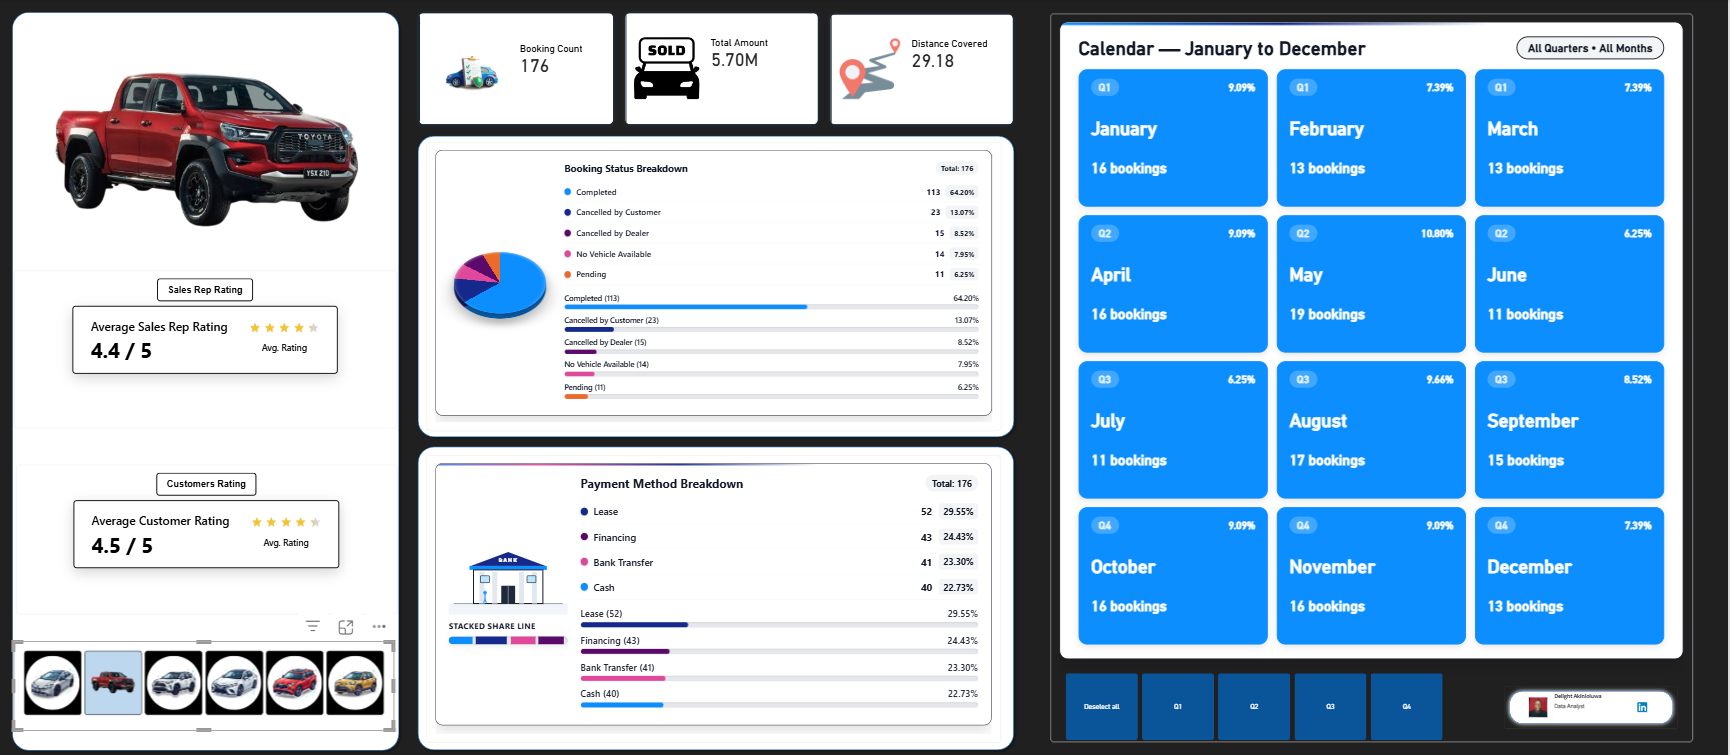

This screenshot's page, from the dashboard's own definition file:
{"tool":"powerbi","page":{"name":"Dashboard","canvas":[3200,1400],"ordinal":0},"visuals":[{"type":"shape","box":[16.1,16.1,733.2,1383.5],"z":0},{"type":"cardVisual","fields":{"Data":["toyota_powerbi_dataset.No of Bookings"]},"box":[766,16.5,381.5,227.9],"z":0,"group":"g2"},{"type":"shape","box":[766,244.4,1121,574.9],"z":0,"group":"g3"},{"type":"shape","box":[2786.8,1271.2,318.7,76.9],"z":0,"group":"g1"},{"type":"group","id":"g1","title":"Group 11","box":[2786.8,1271.2,315.7,76.9],"z":0,"group":"g5"},{"type":"cardVisual","fields":{"Data":["toyota_powerbi_dataset.Total Amount"]},"box":[1147.5,16.5,378.8,227.9],"z":1000,"group":"g2"},{"type":"image","box":[30,27.7,707.9,516.5],"z":1000},{"type":"htmlContent443BE3AD55E043BF878BED274D3A6855","fields":{"content":["toyota_powerbi_dataset.HTML Booking Status 3D Pie"]},"box":[790.7,264.4,1064.1,535],"z":1000,"group":"g3"},{"type":"image","box":[2820.3,1291.2,55.9,36.9],"z":1000,"group":"g1"},{"type":"cardVisual","fields":{"Data":["toyota_powerbi_dataset.Avg Distance Covered"]},"box":[1526.3,18.9,359.9,225.5],"z":2000,"group":"g2"},{"type":"ChicletSlicer1448559807354","fields":{"Image":["Icon.Icon URL"],"Category":["Icon.Vehincle"]},"box":[27.7,1187.5,705.6,166],"z":2000},{"type":"textbox","box":[2878.1,1278.9,164,60],"z":2000,"group":"g1"},{"type":"htmlContent443BE3AD55E043BF878BED274D3A6855","fields":{"content":["toyota_powerbi_dataset.HTML Average Customer Rating HTML"]},"box":[30,862.4,705.6,276.7],"z":3000},{"type":"image","box":[3027.2,1300.4,28,18.5],"z":3000,"group":"g1"},{"type":"htmlContent443BE3AD55E043BF878BED274D3A6855","fields":{"content":["toyota_powerbi_dataset.HTML Sales Rep Rating HTML"]},"box":[27.7,502.7,710.2,292.8],"z":4000},{"type":"group","id":"g2","title":"Group 1","box":[766,16.5,1120.2,227.9],"z":5000},{"type":"shape","box":[766,818.2,1120.2,579.3],"z":5000,"group":"g4"},{"type":"group","id":"g3","title":"Group 2","box":[766,244.4,1120.2,573.8],"z":6000},{"type":"group","id":"g4","title":"Group 3","box":[766,818.2,1120.2,579.3],"z":7000},{"type":"htmlContent443BE3AD55E043BF878BED274D3A6855","fields":{"content":["toyota_powerbi_dataset.HTML Payment Method 3D Pie"]},"box":[790.7,842.9,1063.3,532.4],"z":8000,"group":"g4"},{"type":"group","id":"g5","title":"Group 2","box":[2786.8,1271.2,315.7,76.9],"z":8000},{"type":"htmlContent443BE3AD55E043BF878BED274D3A6855","fields":{"content":["toyota_powerbi_dataset.HTML Calendar View"]},"box":[1943.9,27.5,1188.8,1348.1],"z":8001},{"type":"advancedSlicerVisual","fields":{"Values":["toyota_powerbi_dataset.Quarter 1"]},"box":[1974.1,1246.5,700.1,123.6],"z":8002}]}

Visuals, with their boxes in screenshot pixels (x1, y1, x2, y2), scaled from the page's 3200x1400 canvas onto the 1730x755 screenshot:
shape: bbox=[9, 9, 405, 754]
cardVisual - toyota_powerbi_dataset.No of Bookings: bbox=[414, 9, 620, 132]
shape: bbox=[414, 132, 1020, 442]
shape: bbox=[1507, 686, 1679, 727]
"Group 11" group: bbox=[1507, 686, 1677, 727]
cardVisual - toyota_powerbi_dataset.Total Amount: bbox=[620, 9, 825, 132]
image: bbox=[16, 15, 399, 293]
htmlContent443BE3AD55E043BF878BED274D3A6855 - toyota_powerbi_dataset.HTML Booking Status 3D Pie: bbox=[427, 143, 1003, 431]
image: bbox=[1525, 696, 1555, 716]
cardVisual - toyota_powerbi_dataset.Avg Distance Covered: bbox=[825, 10, 1020, 132]
ChicletSlicer1448559807354 - Icon.Icon URL x Icon.Vehincle: bbox=[15, 640, 396, 730]
textbox: bbox=[1556, 690, 1645, 722]
htmlContent443BE3AD55E043BF878BED274D3A6855 - toyota_powerbi_dataset.HTML Average Customer Rating HTML: bbox=[16, 465, 398, 614]
image: bbox=[1637, 701, 1652, 711]
htmlContent443BE3AD55E043BF878BED274D3A6855 - toyota_powerbi_dataset.HTML Sales Rep Rating HTML: bbox=[15, 271, 399, 429]
"Group 1" group: bbox=[414, 9, 1020, 132]
shape: bbox=[414, 441, 1020, 754]
"Group 2" group: bbox=[414, 132, 1020, 441]
"Group 3" group: bbox=[414, 441, 1020, 754]
htmlContent443BE3AD55E043BF878BED274D3A6855 - toyota_powerbi_dataset.HTML Payment Method 3D Pie: bbox=[427, 455, 1002, 742]
"Group 2" group: bbox=[1507, 686, 1677, 727]
htmlContent443BE3AD55E043BF878BED274D3A6855 - toyota_powerbi_dataset.HTML Calendar View: bbox=[1051, 15, 1694, 742]
advancedSlicerVisual - toyota_powerbi_dataset.Quarter 1: bbox=[1067, 672, 1446, 739]
